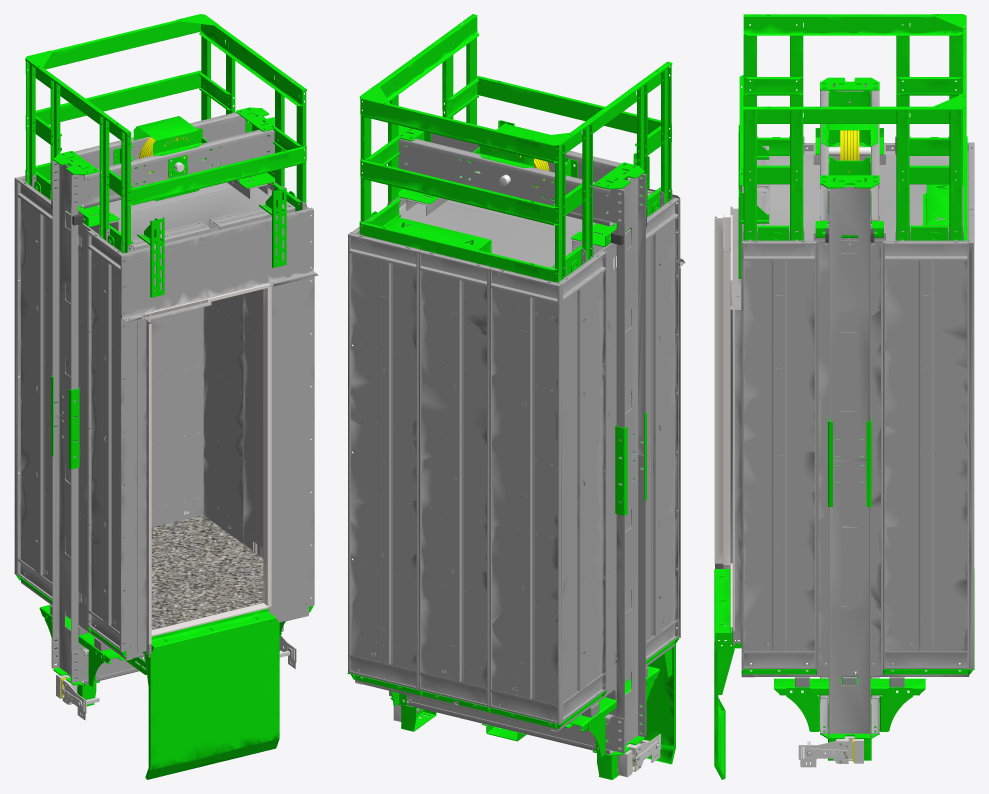
File: cabin-pro-v6.hero.glb
The picture shows the model from 3 angles, left to right: view 1: azimuth 30°, elevation 25°; view 2: azimuth 150°, elevation 25°; view 3: azimuth 270°, elevation 25°; orthographic projection. The views are drawn at different scales.
Parts seen in each view (by area): view 1: Panel Sini, Panel R, Panel P, Yok Pillar (×2), Sheet C1 N, Floor Stone, Sheet M (×2), Sheet L3 N, Sheet R3 N, Sheet L1 N, Roof Narde C (×3), Sheet Pol (×2) (+21 smaller); view 2: Sheet Pol (×5), Sheet C2 N, Sheet CC N, Sheet C1 N, Yok Pillar (×2), Sheet L3 N, Roof Narde C (×4), Yok All (×3), Sheet L1 N, Sheet Base C N (×6), Roof Narde A (×7), Sheet M (+15 smaller); view 3: Sheet R3 N, Sheet R1 N, Yok Pillar (×2), Sheet Pol (×2), Sheet M, Roof Narde A (×8), Roof Narde B (×2), SS Panel FM, Roof Narde R (×4), Sheet Base R3 N (×2), Panel R, Roof Back (+24 smaller).
Boxes of the visible parts, x1,y1,x2,y2 form: Panel Sini: (145,618,279,779); Panel R: (268,271,314,615); Panel P: (120,207,318,321); Yok Pillar (×2): (52,161,78,682); Sheet C1 N: (150,307,203,527); Floor Stone: (45,515,263,629); Sheet M (×2): (63,185,270,626); Sheet L3 N: (17,178,56,582); Sheet R3 N: (203,294,243,543); Sheet L1 N: (87,230,125,644); Roof Narde C (×3): (25,19,306,205); Sheet Pol (×2): (34,209,112,625); Sheet Pol (×5): (378,229,662,698); Sheet C2 N: (489,267,561,724); Sheet CC N: (418,250,490,707); Sheet C1 N: (348,232,420,690); Yok Pillar (×2): (616,174,645,751); Sheet L3 N: (558,250,606,722); Roof Narde C (×4): (359,76,671,282); Yok All (×3): (389,133,646,754); Sheet L1 N: (641,197,679,641); Sheet Base C N (×6): (349,233,561,723); Roof Narde A (×7): (360,24,671,282); Sheet M: (602,230,633,690); Sheet R3 N: (883,241,969,669); Sheet R1 N: (741,241,816,669); Yok Pillar (×2): (829,186,870,736); Sheet Pol (×2): (771,261,934,650); Sheet M: (816,241,882,669); Roof Narde A (×8): (743,22,962,240); Roof Narde B (×2): (743,14,962,123); SS Panel FM: (714,216,730,564); Roof Narde R (×4): (896,77,962,240); Sheet Base R3 N (×2): (883,241,968,668); Panel R: (732,284,743,670); Roof Back: (850,144,969,245).
Size of the model in its own units: 1.42 by 4.03 by 1.37.
Materials: 142 (1 with a texture image).
